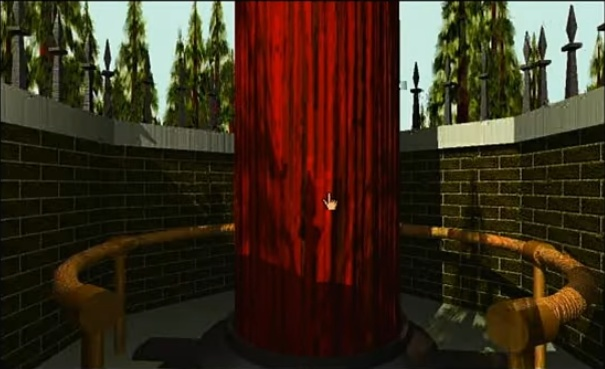Pointer: (319, 188, 342, 213)
